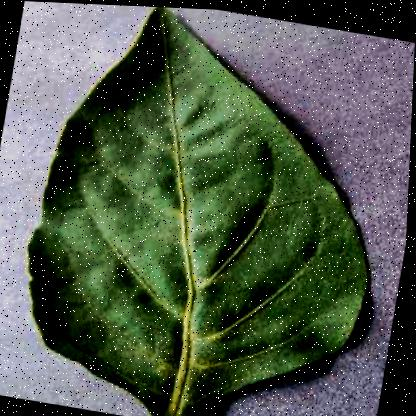Healthy: (5, 0, 411, 415)
